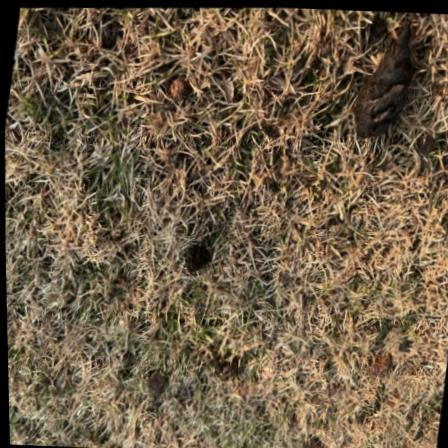dog-poop: (350, 29, 422, 141)
